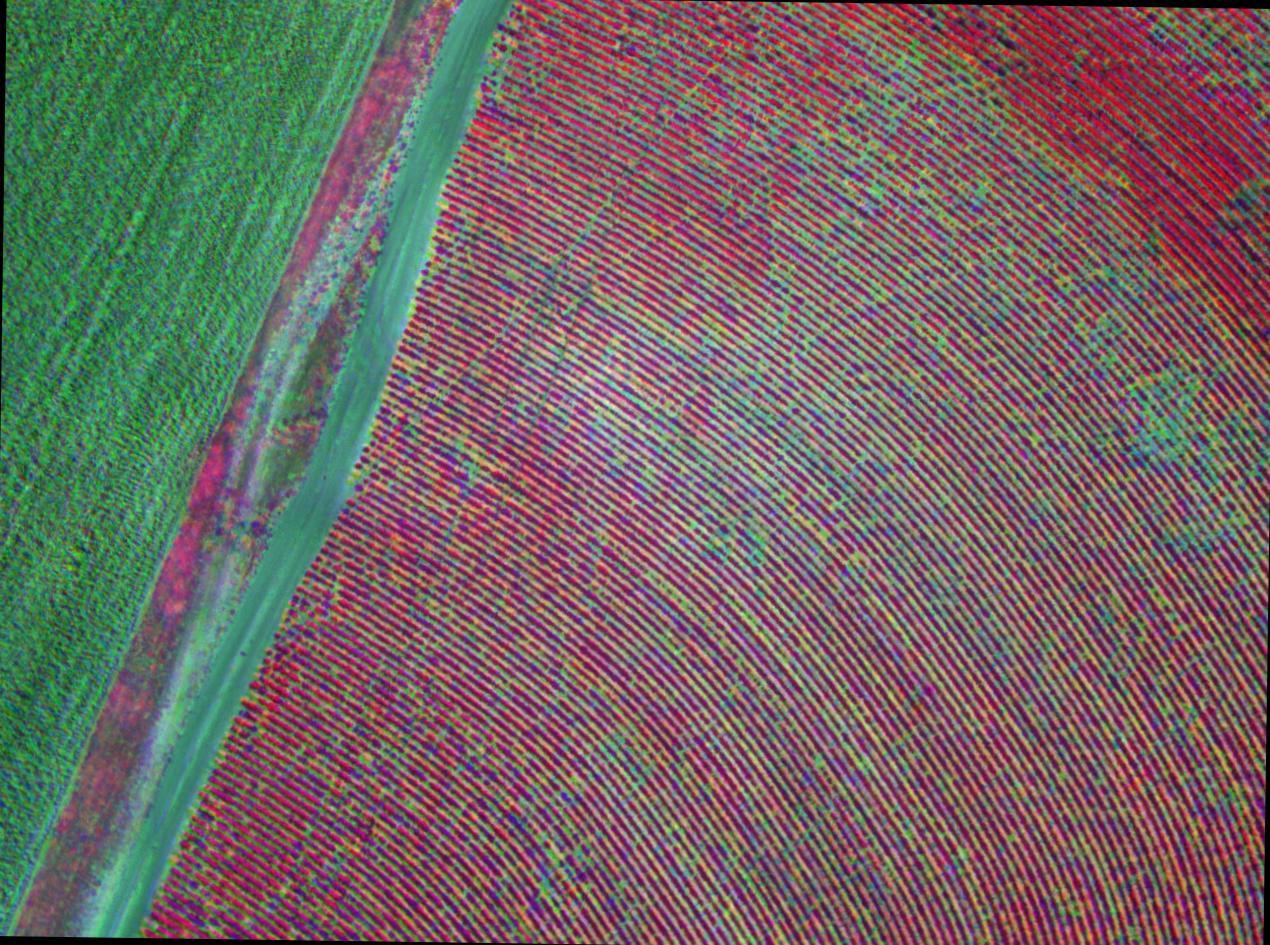dc: (874, 190, 879, 195), (707, 475, 711, 479), (903, 54, 907, 58), (823, 325, 826, 329), (613, 460, 617, 463), (938, 88, 942, 91), (928, 123, 931, 126), (852, 233, 855, 236)
